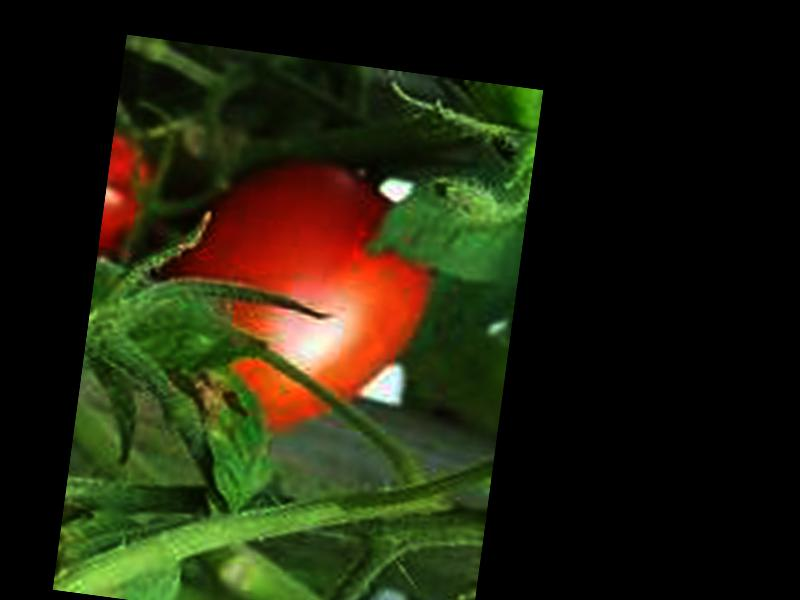Tomato: (157, 146, 446, 443)
